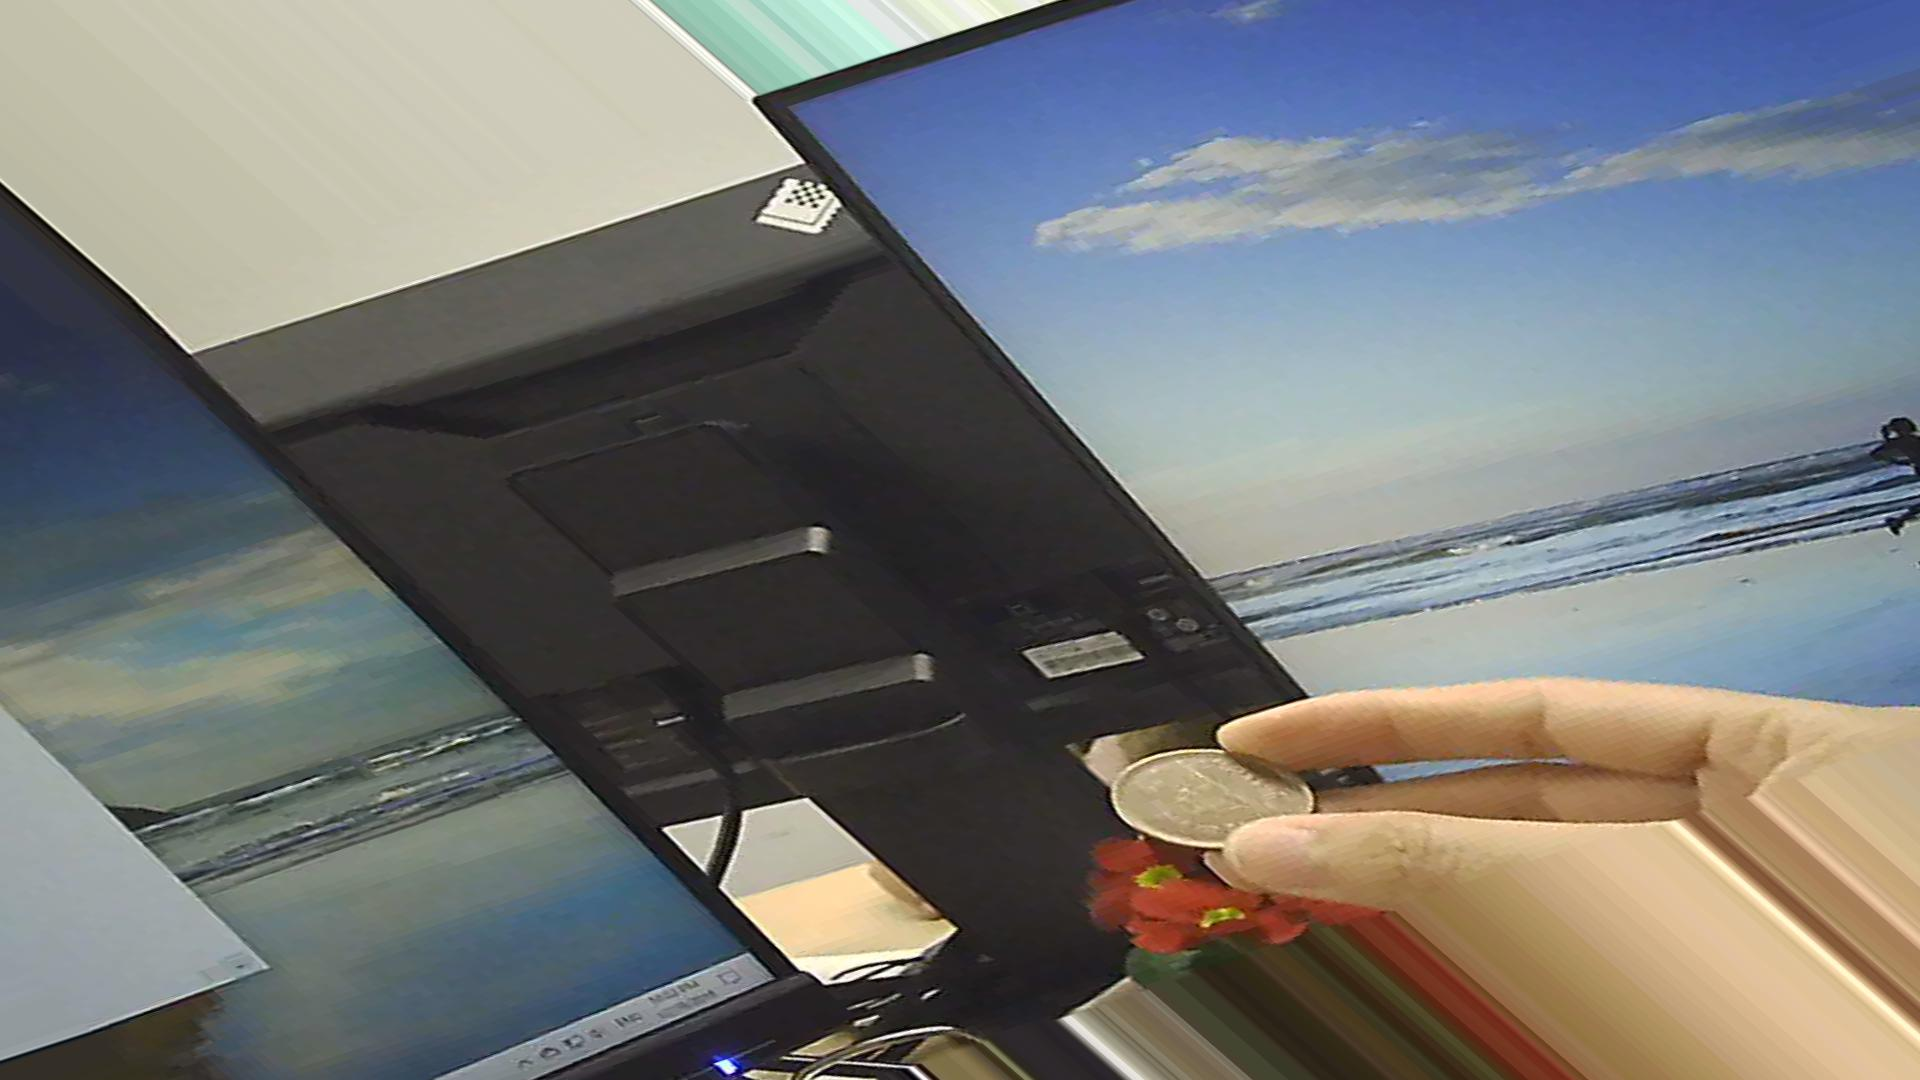10 Yen: (1106, 746, 1317, 869)
